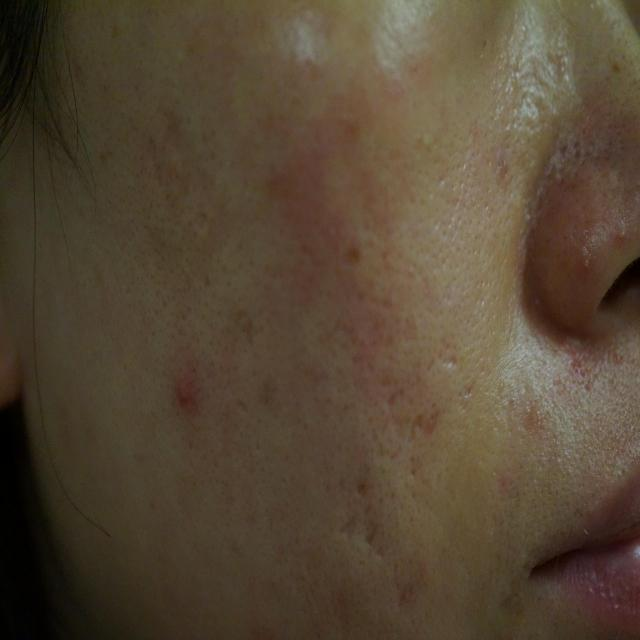comedone: (152, 351, 216, 448), (282, 146, 334, 213), (402, 364, 439, 434), (337, 99, 381, 157), (330, 227, 375, 275)
